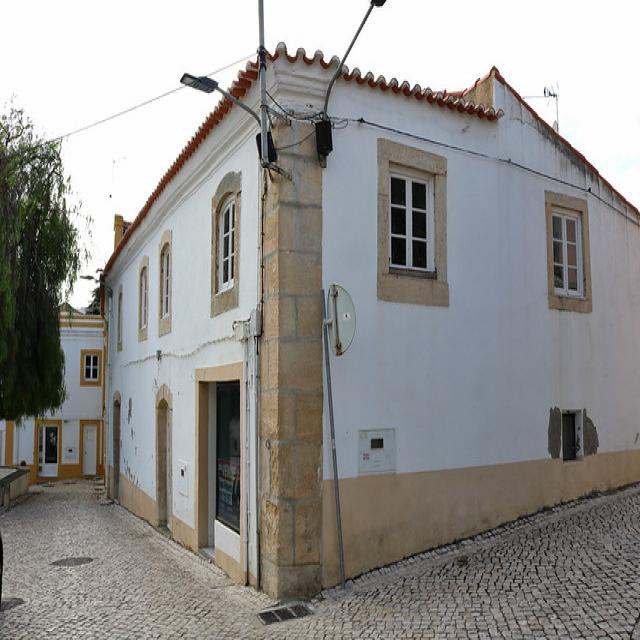Normal_building: (86, 36, 640, 600)
